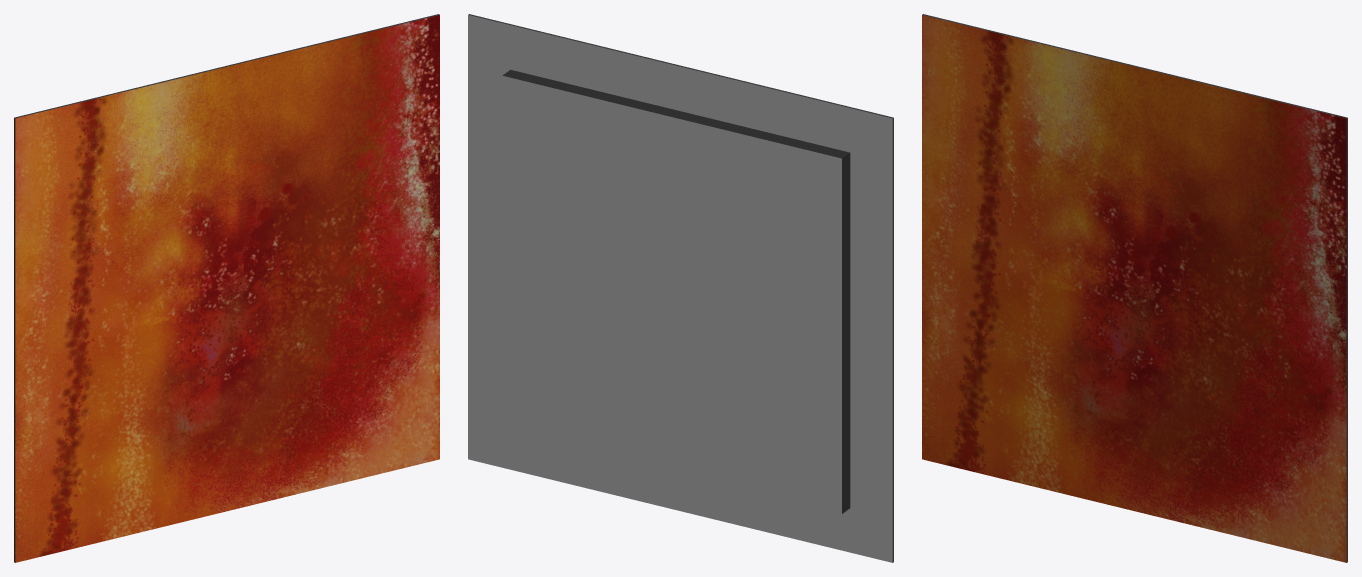
File: va294_moyen_dibond.glb
3 renders of one model, left to right at view 1: azimuth 30°, elevation 25°; view 2: azimuth 150°, elevation 25°; view 3: azimuth 330°, elevation 25°, orthographic.
Parts seen in each view (by area): view 1: va294_moyen_dibond; view 2: va294_moyen_dibond; view 3: va294_moyen_dibond.
Part boxes in pixels (<box>): va294_moyen_dibond: <box>14,14,439,562</box>; va294_moyen_dibond: <box>468,14,893,562</box>; va294_moyen_dibond: <box>922,14,1347,562</box>.
Bounding box in the file's own units: 0.6 × 0.6 × 0.023.
Materials: 4 (1 with a texture image).
